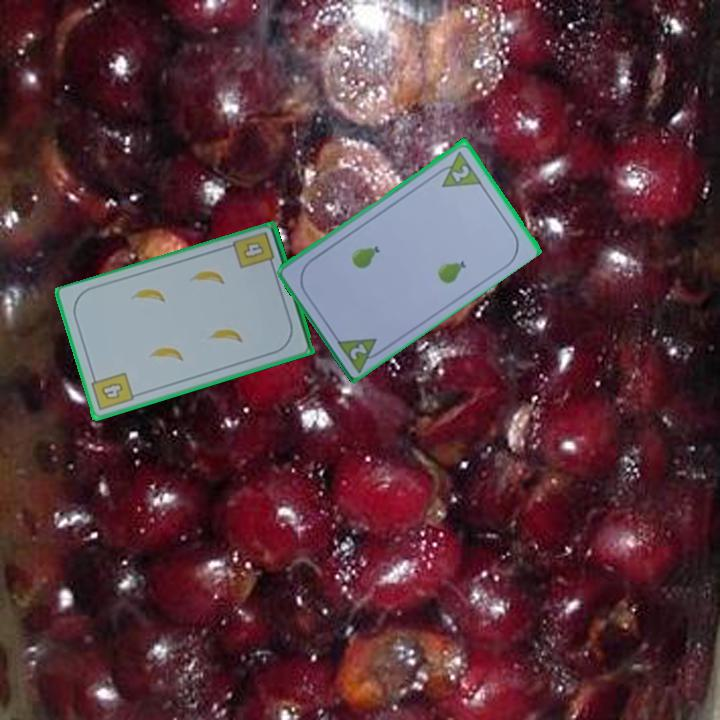2p: (431, 147, 484, 190), (332, 334, 388, 374)
4b: (88, 369, 137, 414), (231, 228, 278, 272)
